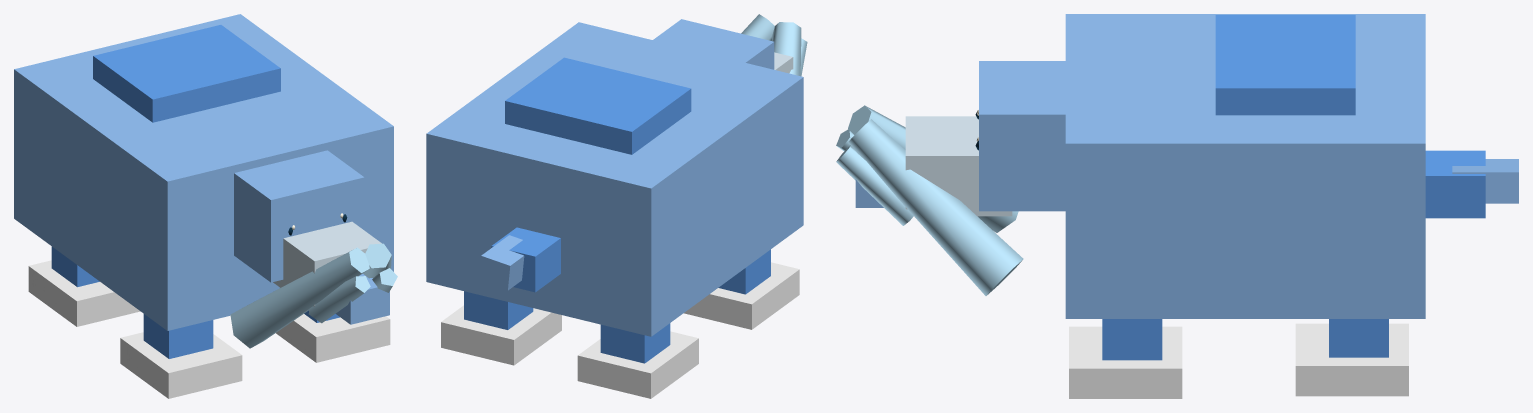
File: GigasMammothB.glb
The picture shows the model from 3 angles, left to right: view 1: azimuth 30°, elevation 25°; view 2: azimuth 150°, elevation 25°; view 3: azimuth 270°, elevation 25°; orthographic projection. The views are drawn at different scales.
Visible parts, largest first — view 1: GigasMammothBody, GigasMammothHead; view 2: GigasMammothBody, GigasMammothHead; view 3: GigasMammothBody, GigasMammothHead.
Part boxes in pixels (bbox=[...]): GigasMammothBody: bbox=[14, 14, 393, 398]; GigasMammothHead: bbox=[230, 150, 397, 348]; GigasMammothBody: bbox=[426, 22, 803, 398]; GigasMammothHead: bbox=[653, 14, 807, 76]; GigasMammothBody: bbox=[1065, 14, 1518, 398]; GigasMammothHead: bbox=[836, 61, 1065, 295].
Size of the model in its own units: 0.92 by 0.94 by 2.05.
